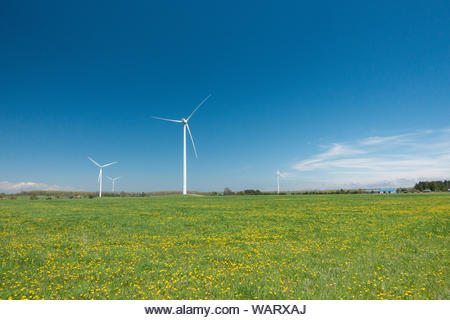working: (149, 91, 215, 166), (82, 152, 116, 185)
